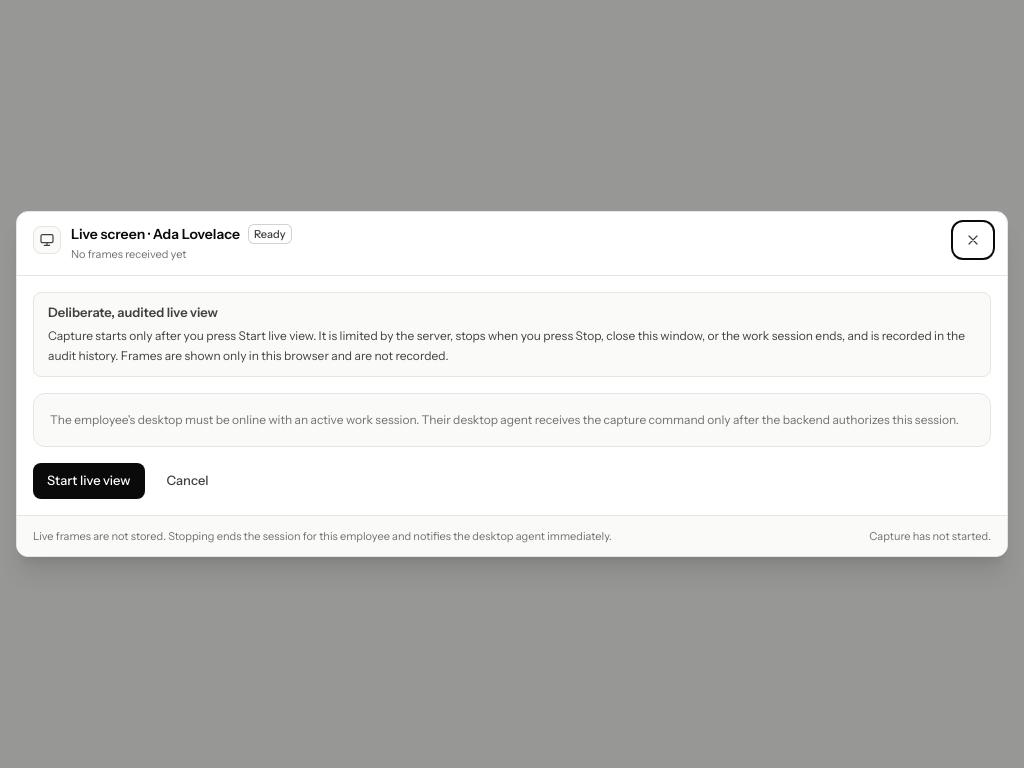
it: LiveScreenViewer › shows a restricted state when the ticket is refused
The image size is (1024, 768).
Click the button "Start live view" at (89, 481), box [33,463,144,499]
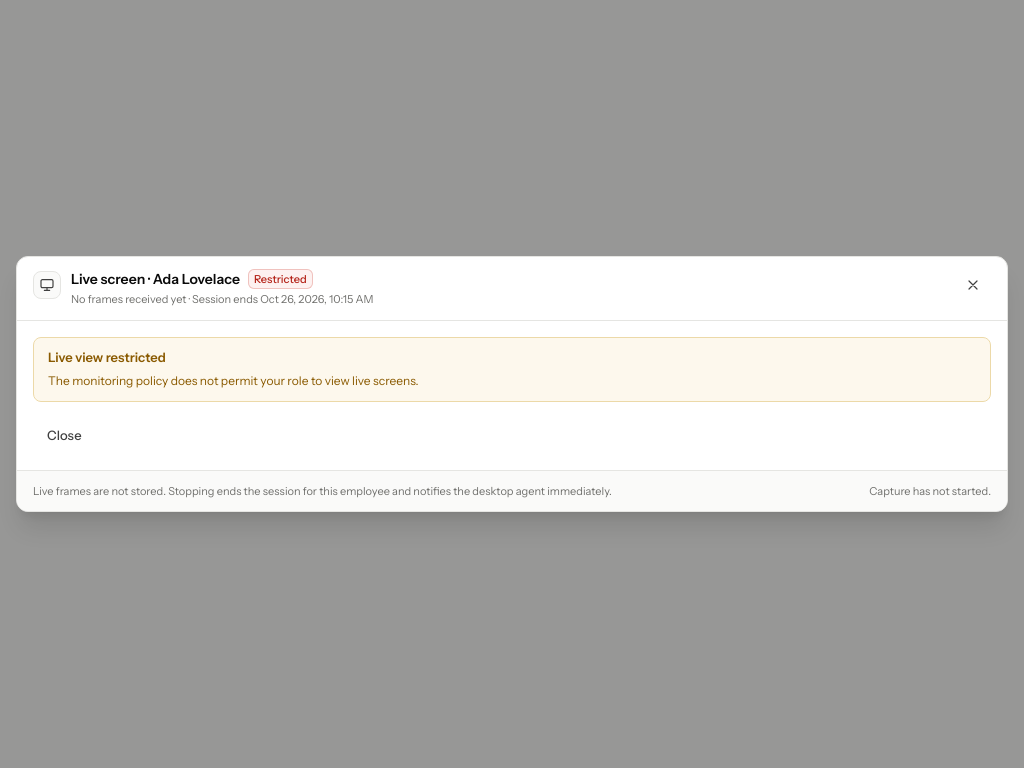
Expected: the text "The monitoring policy does not permit your role to view live screens." is shown, [48,373,419,388]
Expected: the text "Live view restricted" is shown, [48,348,166,364]
